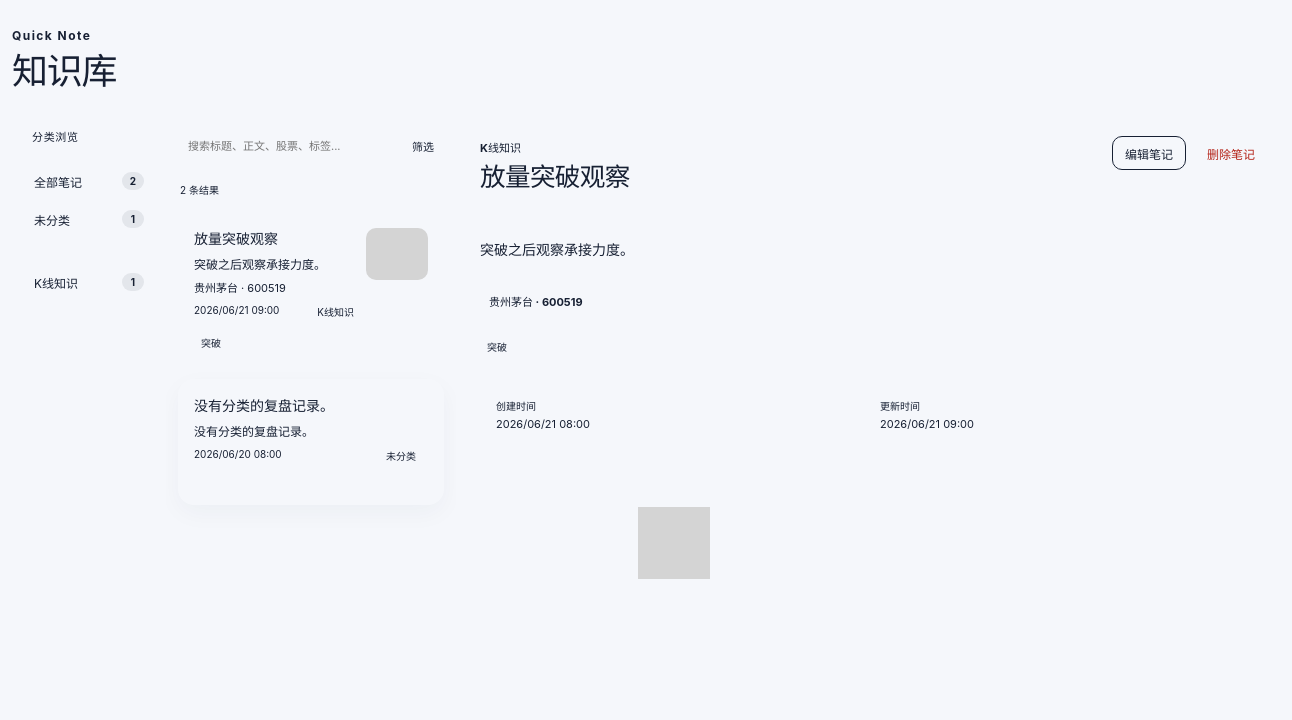
it: knowledge library › searches local note content and keeps the detail synchronized with results
Type "没有分类" into the search field named "搜索笔记".
click(286, 146); type("没有分类")  # box [178,128,394,164]
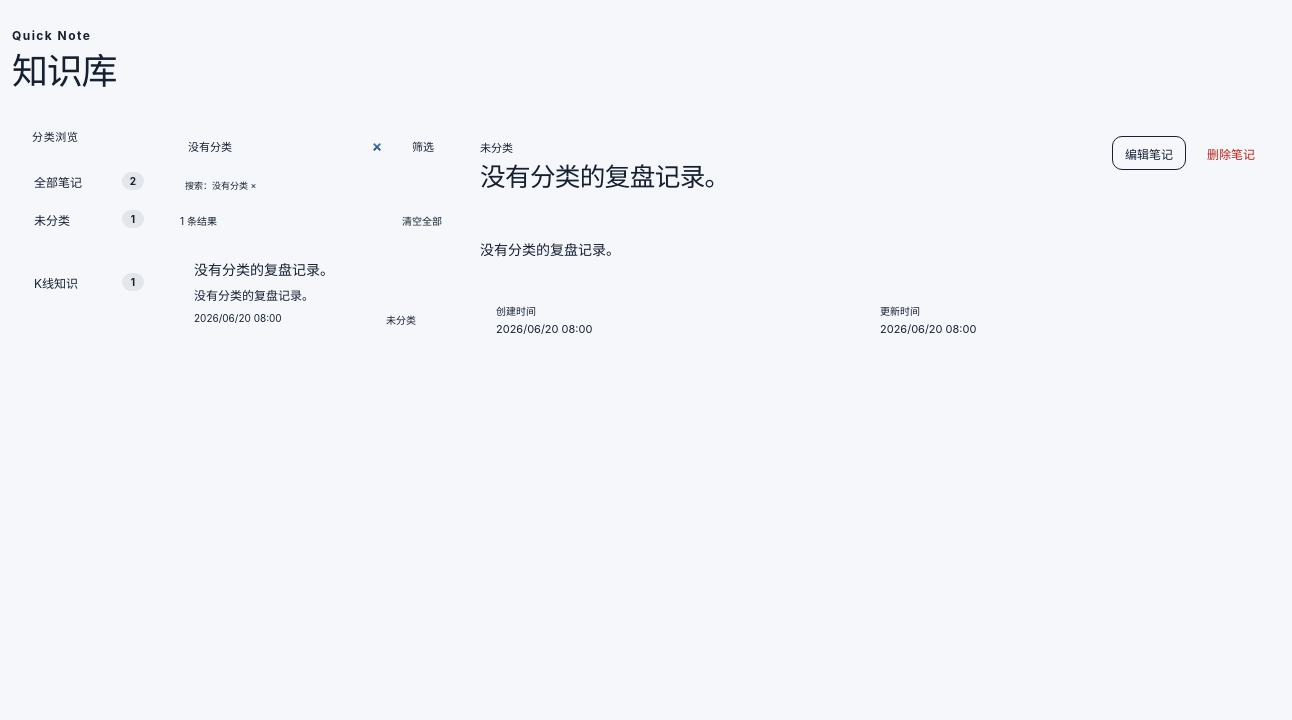
expect the text "1 条结果" is shown: met, box [180,212,217,228]
expect the heading "没有分类的复盘记录。" is shown: met, box [480,161,730,193]
expect the list item "放量突破观察" is gone: met
Clear the search field named "搜索笔记" at (286, 146), box [178,128,394,164]
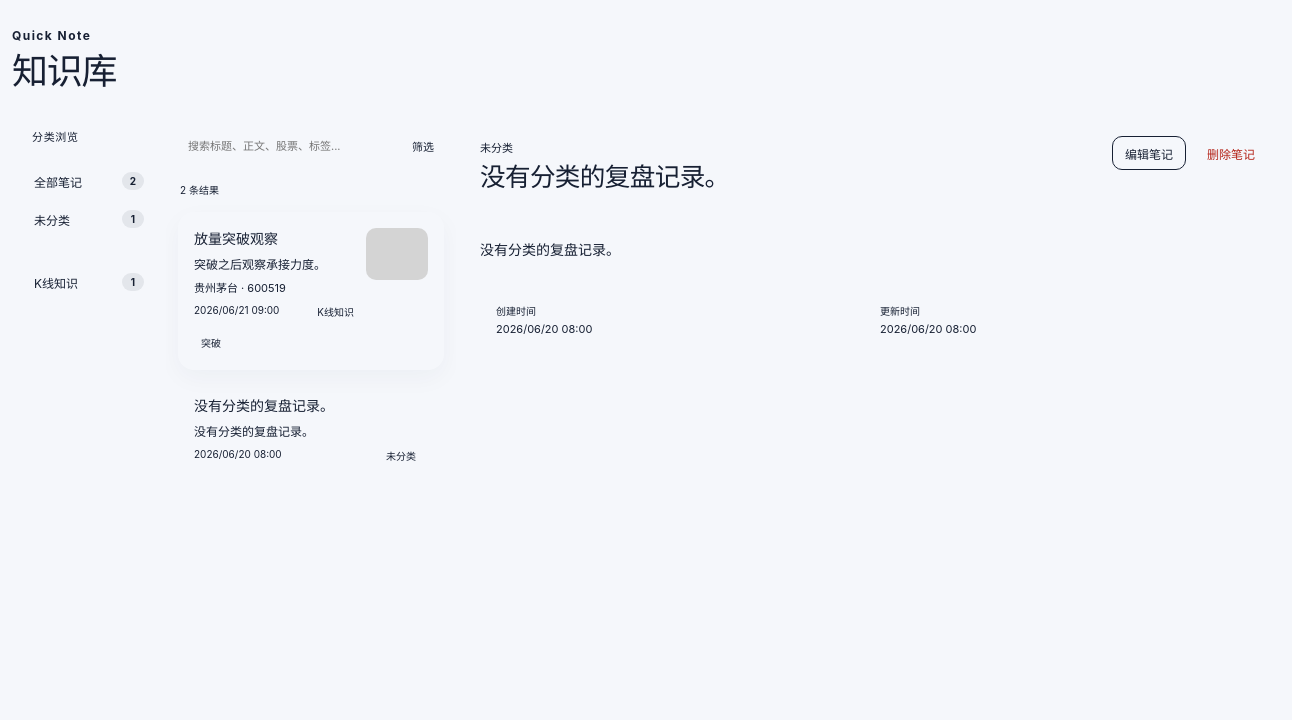
expect the heading "没有分类的复盘记录。" is shown: met, box [480,161,730,193]
expect the text "2 条结果" is shown: met, box [180,182,219,196]
